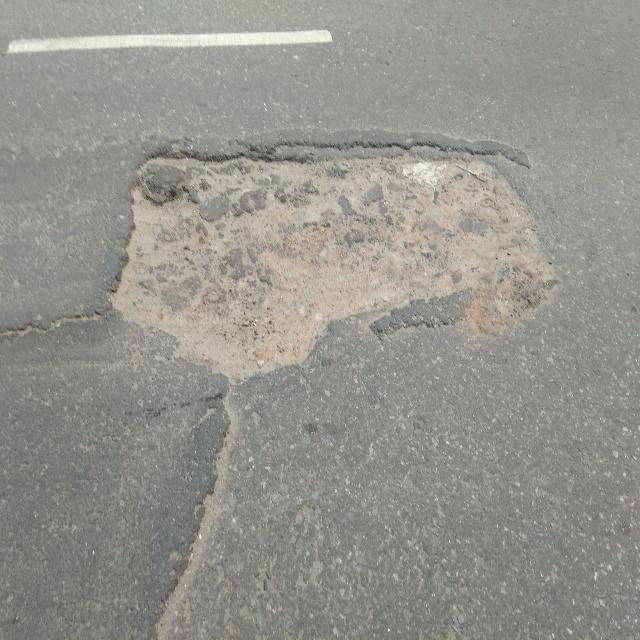Pothole: (132, 145, 514, 364)
